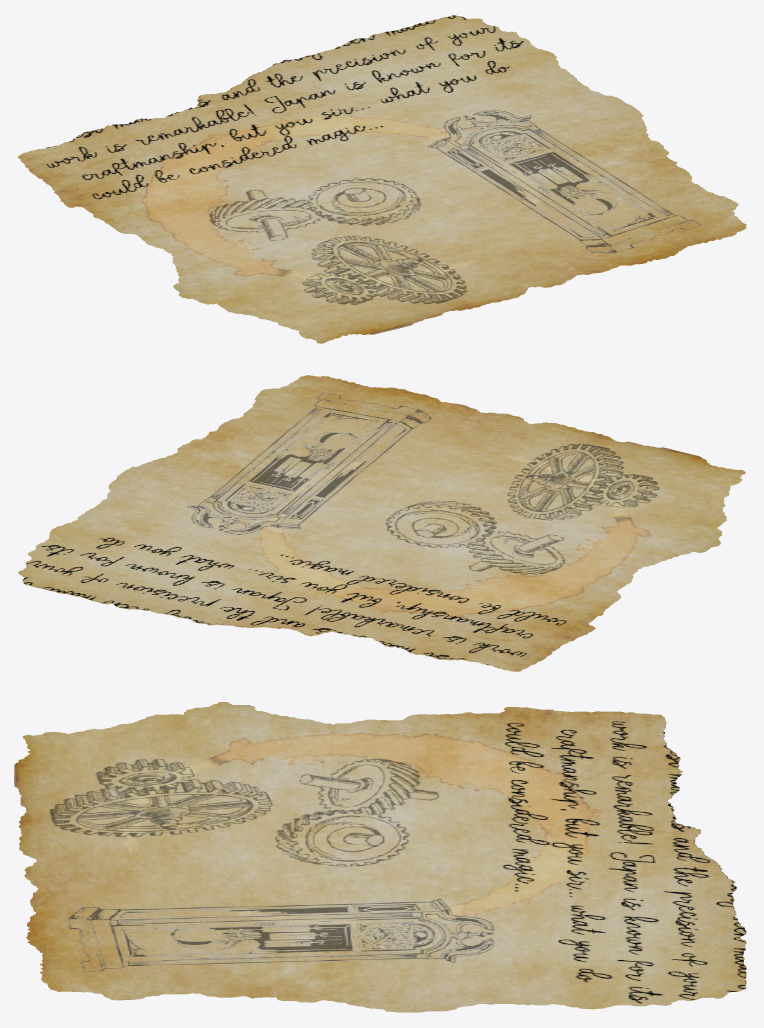
File: NoteForClock.fbx
The picture shows the model from 3 angles, top to bottom: view 1: azimuth 30°, elevation 25°; view 2: azimuth 150°, elevation 25°; view 3: azimuth 270°, elevation 25°; orthographic projection. The views are drawn at different scales.
Parts seen in each view (by area): view 1: NoteForClock; view 2: NoteForClock; view 3: NoteForClock.
Part boxes in pixels (<box>): NoteForClock: <box>17,15,746,343</box>; NoteForClock: <box>18,375,745,671</box>; NoteForClock: <box>14,702,746,1012</box>.
Size of the model in its own units: 200 by 0.2349 by 200.
